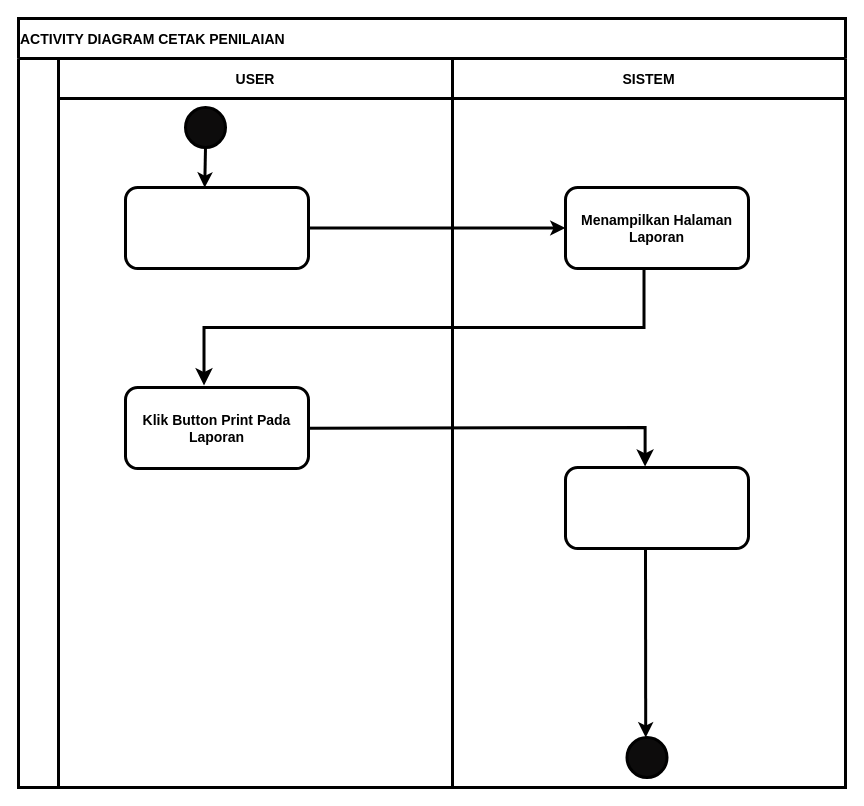
The diagram is 864 pixels wide and 806 high, and some of its shapes have lost their labels. Here are the shapes that lost their labels. From the top down, the centre of each, then its label:
[217,228]: Pilih Menu Laporan
[657,508]: Mencetak Laporan
